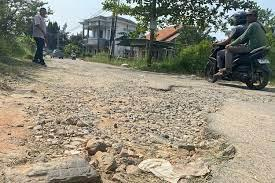Pothole: (11, 65, 275, 183)
